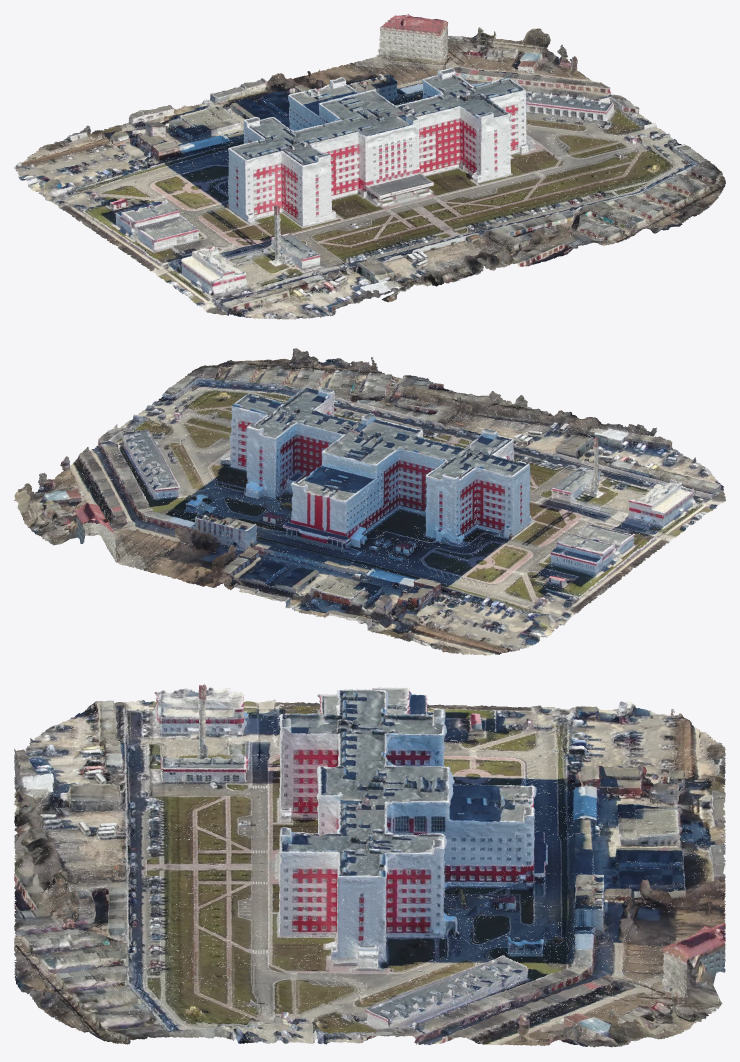
The model's file is hospital-high.glb.
3 renders of one model, top to bottom at view 1: azimuth 30°, elevation 25°; view 2: azimuth 150°, elevation 25°; view 3: azimuth 270°, elevation 25°, orthographic. The views are drawn at different scales.
Visible parts, largest first — view 1: default_hospital_Material_u1_v1_0, default_hospital_Material_u2_v1_0, default_hospital_Material_u1_v2_0; view 2: default_hospital_Material_u1_v1_0, default_hospital_Material_u2_v1_0, default_hospital_Material_u1_v2_0; view 3: default_hospital_Material_u1_v1_0, default_hospital_Material_u2_v1_0, default_hospital_Material_u1_v2_0.
Boxes of the visible parts, x1,y1,x2,y2 form: default_hospital_Material_u1_v1_0: (14, 14, 724, 319); default_hospital_Material_u2_v1_0: (14, 15, 725, 317); default_hospital_Material_u1_v2_0: (68, 68, 641, 301); default_hospital_Material_u1_v1_0: (14, 348, 725, 655); default_hospital_Material_u2_v1_0: (15, 349, 723, 654); default_hospital_Material_u1_v2_0: (95, 383, 714, 645); default_hospital_Material_u1_v1_0: (14, 685, 725, 1047); default_hospital_Material_u2_v1_0: (14, 684, 725, 1045); default_hospital_Material_u1_v2_0: (14, 688, 725, 1037).
Size of the model in its own units: 20.55 by 3.06 by 17.53.
Materials: 3 (3 with a texture image).
